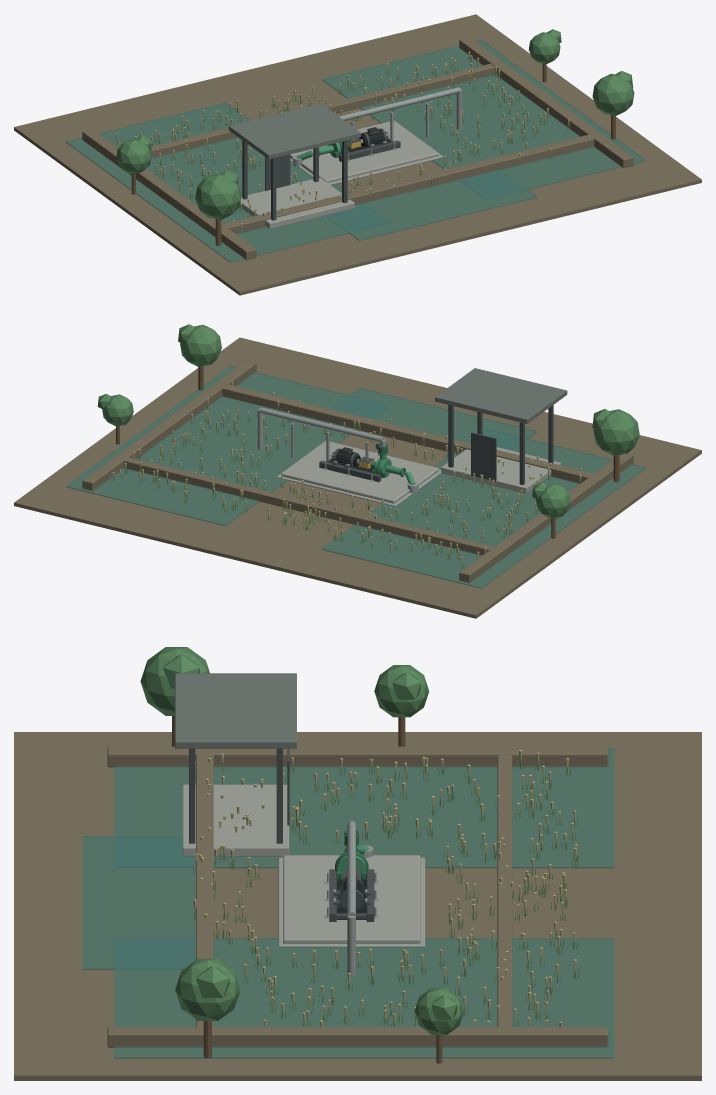
The model's file is paddy_pump_station.glb.
The picture shows the model from 3 angles, top to bottom: view 1: azimuth 30°, elevation 25°; view 2: azimuth 150°, elevation 25°; view 3: azimuth 270°, elevation 25°; orthographic projection. The views are drawn at different scales.
Visible parts, largest first — view 1: PaddyEarth, PaddyWaterB, PaddyWaterA, PaddyWaterC, RiceField, BundN, ShedRoof, BundPath, PumpPad, BundE, ShedFloor, BundW (+6 smaller); view 2: PaddyEarth, PaddyWaterB, PaddyWaterA, RiceField, PaddyWaterC, BundPath, BundN, ShedRoof, PumpPad, BundE, BundW, ShedFloor (+8 smaller); view 3: PaddyEarth, PaddyWaterB, PaddyWaterA, PaddyWaterC, RiceField, BundE, BundW, ShedRoof, PumpPad, ShedFloor, BundPath, BundN (+9 smaller).
Boxes of the visible parts, bbox=[...] form: PaddyEarth: bbox=[14, 14, 701, 295]; PaddyWaterB: bbox=[322, 40, 645, 199]; PaddyWaterA: bbox=[66, 102, 389, 262]; PaddyWaterC: bbox=[326, 170, 537, 240]; RiceField: bbox=[115, 51, 589, 233]; BundN: bbox=[221, 134, 596, 233]; ShedRoof: bbox=[228, 103, 360, 159]; BundPath: bbox=[150, 63, 495, 158]; PumpPad: bbox=[290, 120, 438, 182]; BundE: bbox=[459, 37, 633, 168]; ShedFloor: bbox=[239, 177, 354, 228]; BundW: bbox=[82, 129, 256, 260]; PaddyEarth: bbox=[14, 337, 701, 618]; PaddyWaterB: bbox=[66, 366, 389, 526]; PaddyWaterA: bbox=[322, 428, 645, 588]; RiceField: bbox=[111, 381, 582, 568]; PaddyWaterC: bbox=[331, 388, 537, 450]; BundPath: bbox=[124, 457, 494, 555]; BundN: bbox=[220, 383, 593, 483]; ShedRoof: bbox=[435, 368, 567, 423]; PumpPad: bbox=[281, 440, 438, 503]; BundE: bbox=[82, 360, 256, 490]; BundW: bbox=[459, 453, 633, 582]; ShedFloor: bbox=[441, 447, 560, 493]; PaddyEarth: bbox=[14, 732, 701, 1080]; PaddyWaterB: bbox=[114, 938, 614, 1058]; PaddyWaterA: bbox=[114, 748, 614, 868]; PaddyWaterC: bbox=[82, 836, 195, 969]; RiceField: bbox=[192, 750, 579, 1026]; BundE: bbox=[107, 1027, 608, 1047]; BundW: bbox=[107, 746, 608, 767]; ShedRoof: bbox=[175, 673, 296, 748]; PumpPad: bbox=[283, 855, 420, 943]; ShedFloor: bbox=[183, 784, 289, 856]; BundPath: bbox=[497, 755, 512, 1026]; BundN: bbox=[196, 752, 213, 1028].
Bounding box in the file's own units: 13 × 2.33 × 11.
